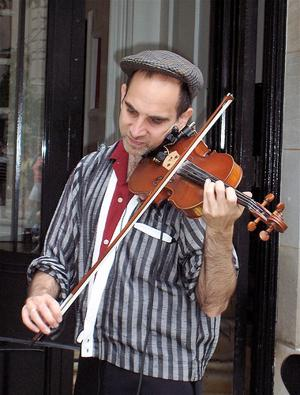person: (23, 50, 253, 393)
